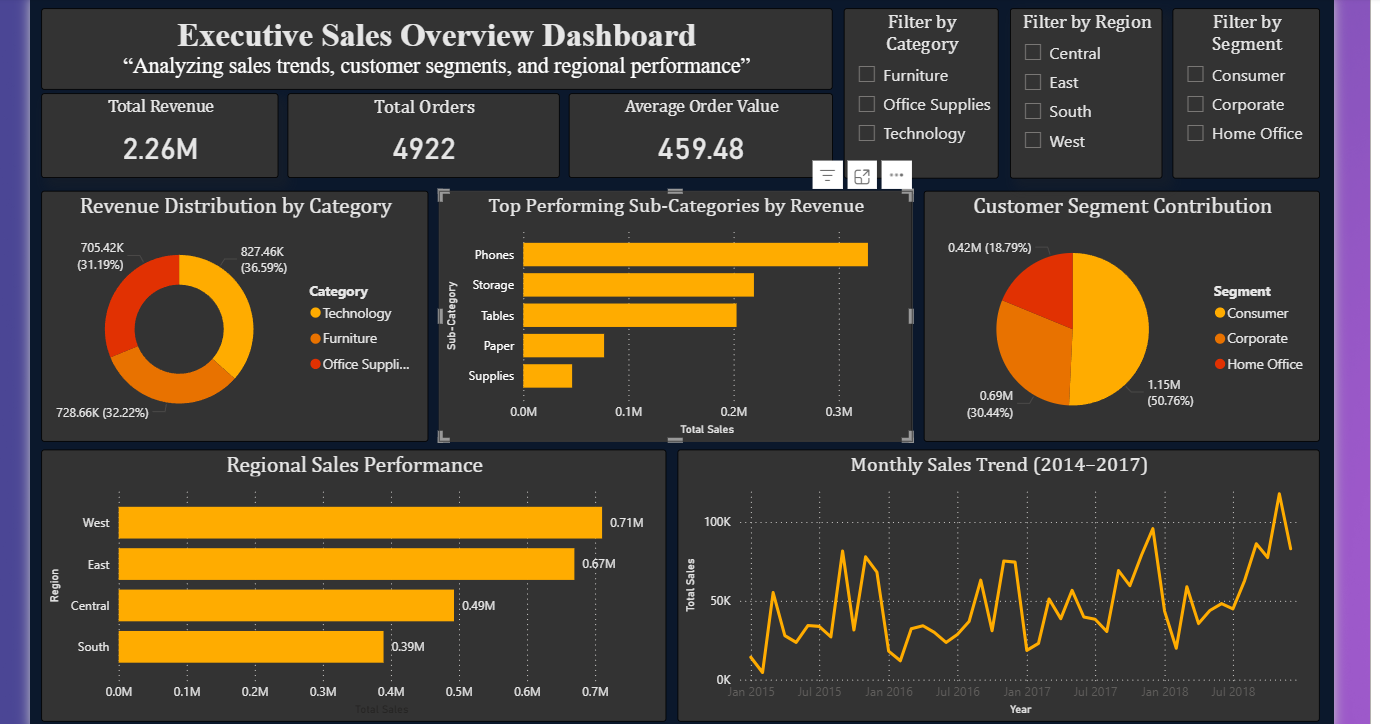

The page's visual inventory and layout, read from the dashboard file:
{"tool":"powerbi","page":{"name":"Page 1","canvas":[1280,720],"ordinal":0},"visuals":[{"type":"card","title":"Total Revenue","fields":{"Values":["Superstore sales dataset(in).Total Sales"]},"box":[11,94.5,233.1,83.4],"z":0},{"type":"card","title":"Total Orders","fields":{"Values":["Superstore sales dataset(in).Total Orders"]},"box":[252.8,94.5,267.5,83.4],"z":1000},{"type":"card","title":"Average Order Value","fields":{"Values":["Superstore sales dataset(in).Average Order Value"]},"box":[528.8,94.5,258.9,83.4],"z":2000},{"type":"clusteredBarChart","title":"Regional Sales Performance","fields":{"Category":["Superstore sales dataset(in).Region"],"Y":["Superstore sales dataset(in).Total Sales"]},"box":[11,444.2,613.5,267.5],"z":3000},{"type":"donutChart","title":"Revenue Distribution by Category","fields":{"Category":["Superstore sales dataset(in).Category"],"Y":["Superstore sales dataset(in).Total Sales"]},"box":[11,190.2,380.4,246.6],"z":4000},{"type":"lineChart","title":"Monthly Sales Trend (2014–2017)","fields":{"Y":["Superstore sales dataset(in).Total Sales"],"Category":["Superstore sales dataset(in).Order Date.Variation.Date Hierarchy.Year","Superstore sales dataset(in).Order Date.Variation.Date Hierarchy.Month"]},"box":[635.6,444.2,630.7,267.5],"z":5000},{"type":"clusteredBarChart","title":"Top Performing Sub-Categories by Revenue","fields":{"Category":["Superstore sales dataset(in).Sub-Category"],"Y":["Superstore sales dataset(in).Total Sales"]},"box":[401.2,190.2,465,246.6],"z":6000},{"type":"pieChart","title":"Customer Segment Contribution","fields":{"Category":["Superstore sales dataset(in).Segment"],"Y":["Superstore sales dataset(in).Total Sales"]},"box":[877.3,190.2,389,246.6],"z":7000},{"type":"textbox","box":[11,11,776.7,79.8],"z":8000},{"type":"slicer","title":"Filter by Region","fields":{"Values":["Superstore sales dataset(in).Region"]},"box":[962,11,149.7,166.9],"z":9000},{"type":"slicer","title":"Filter by Category","fields":{"Values":["Superstore sales dataset(in).Category"]},"box":[798.8,11,152.1,166.9],"z":10000},{"type":"slicer","title":"Filter by Segment","fields":{"Values":["Superstore sales dataset(in).Segment"]},"box":[1121.5,11,144.8,166.9],"z":11000}]}

Visuals, with their boxes on the page's 1280x720 design canvas (x1, y1, x2, y2). These are canvas units, not pixel positions in the 1380x724 screenshot, which may show the page scaled, cropped or inside an application window:
"Total Revenue" card: <region>11, 94, 244, 178</region>
"Total Orders" card: <region>253, 94, 520, 178</region>
"Average Order Value" card: <region>529, 94, 788, 178</region>
"Regional Sales Performance" clusteredBarChart: <region>11, 444, 624, 712</region>
"Revenue Distribution by Category" donutChart: <region>11, 190, 391, 437</region>
"Monthly Sales Trend (2014–2017)" lineChart: <region>636, 444, 1266, 712</region>
"Top Performing Sub-Categories by Revenue" clusteredBarChart: <region>401, 190, 866, 437</region>
"Customer Segment Contribution" pieChart: <region>877, 190, 1266, 437</region>
textbox: <region>11, 11, 788, 91</region>
"Filter by Region" slicer: <region>962, 11, 1112, 178</region>
"Filter by Category" slicer: <region>799, 11, 951, 178</region>
"Filter by Segment" slicer: <region>1122, 11, 1266, 178</region>
